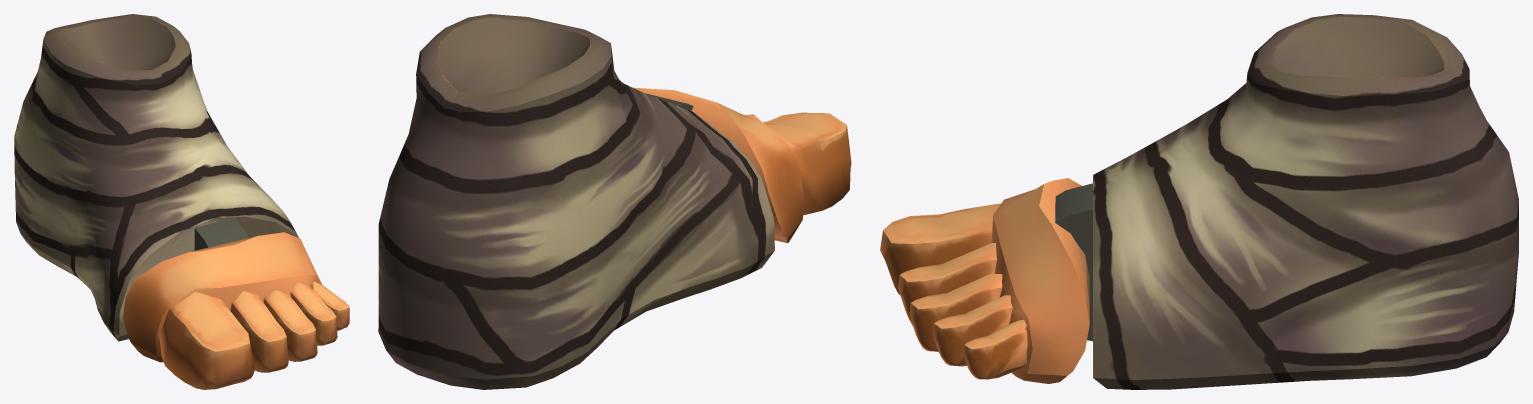
Rendered from footL.fbx.
3 renders of one model, left to right at view 1: azimuth 30°, elevation 25°; view 2: azimuth 150°, elevation 25°; view 3: azimuth 270°, elevation 25°, orthographic. The views are drawn at different scales.
Parts seen in each view (by area): view 1: matte_0.005, matte_1.003; view 2: matte_0.005, matte_1.003; view 3: matte_0.005, matte_1.003.
Part boxes in pixels (bbox=[...]): matte_0.005: bbox=[14, 14, 298, 341]; matte_1.003: bbox=[123, 232, 349, 389]; matte_0.005: bbox=[378, 14, 774, 389]; matte_1.003: bbox=[633, 87, 851, 242]; matte_0.005: bbox=[1055, 14, 1518, 389]; matte_1.003: bbox=[880, 178, 1089, 383].
Bounding box in the file's own units: 374 × 802 × 394.
1 material, 1 textured.
